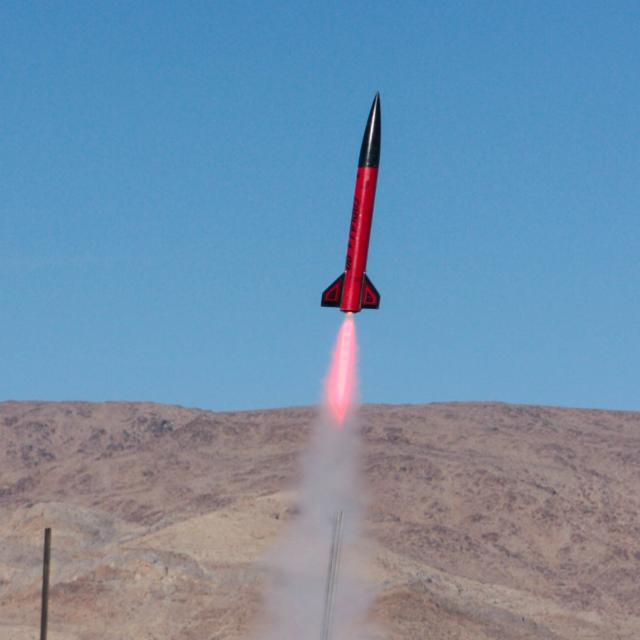Rocket: (319, 91, 383, 314)
